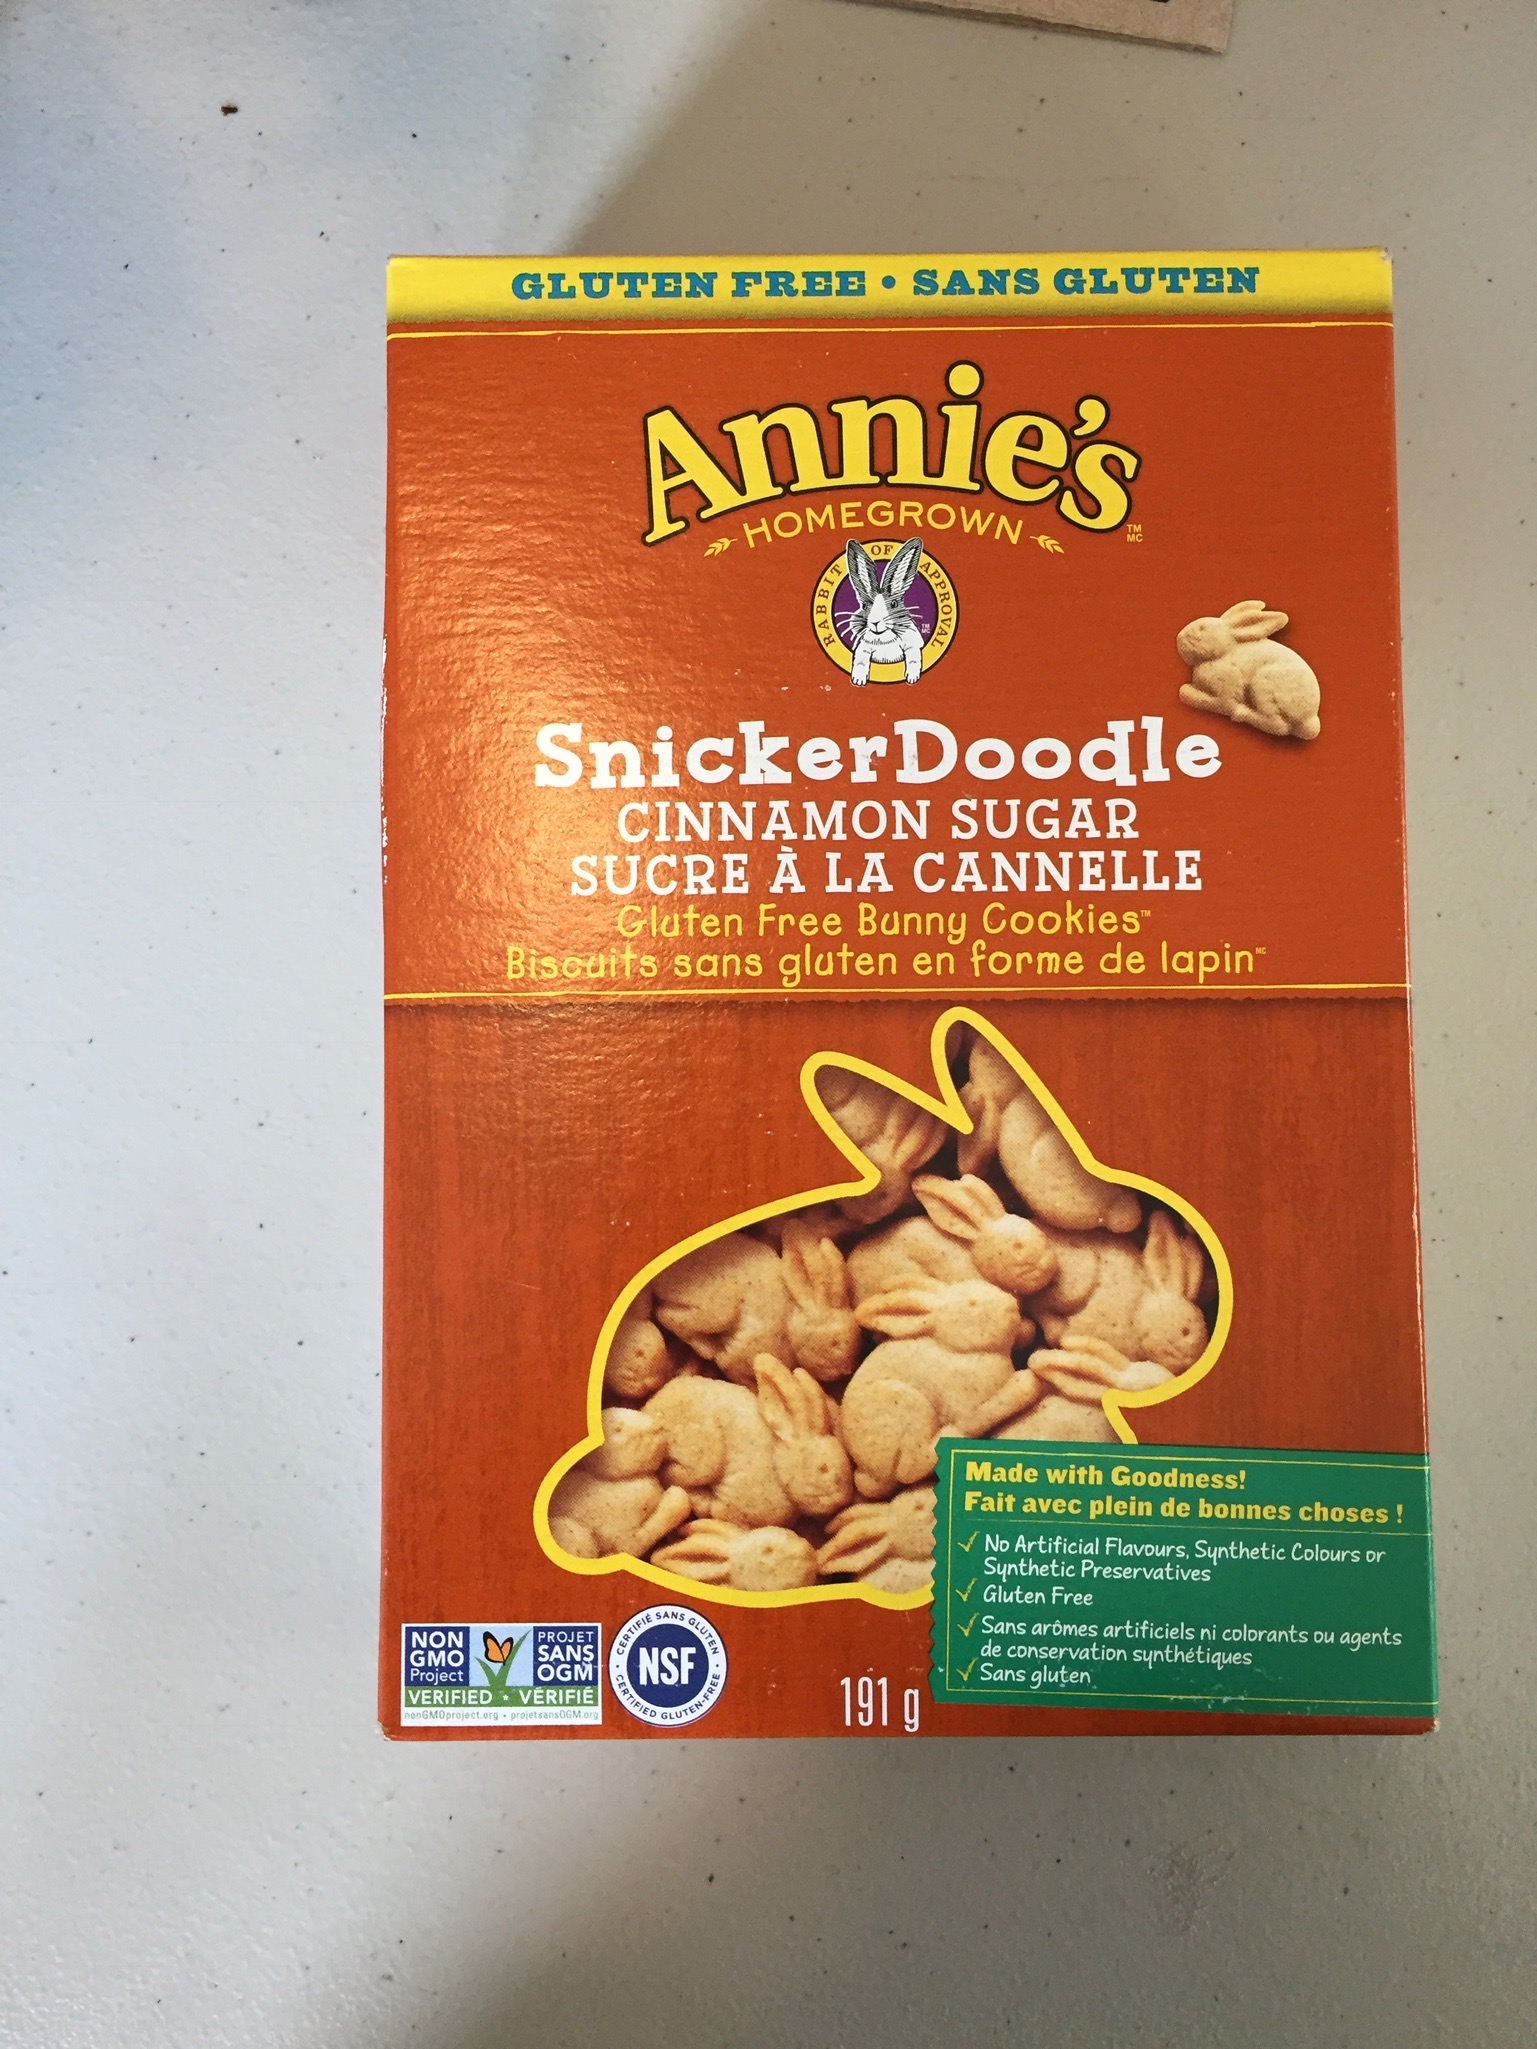annies_snickerdoodle_cinnamon_sugar: (402, 260, 1424, 1724)
